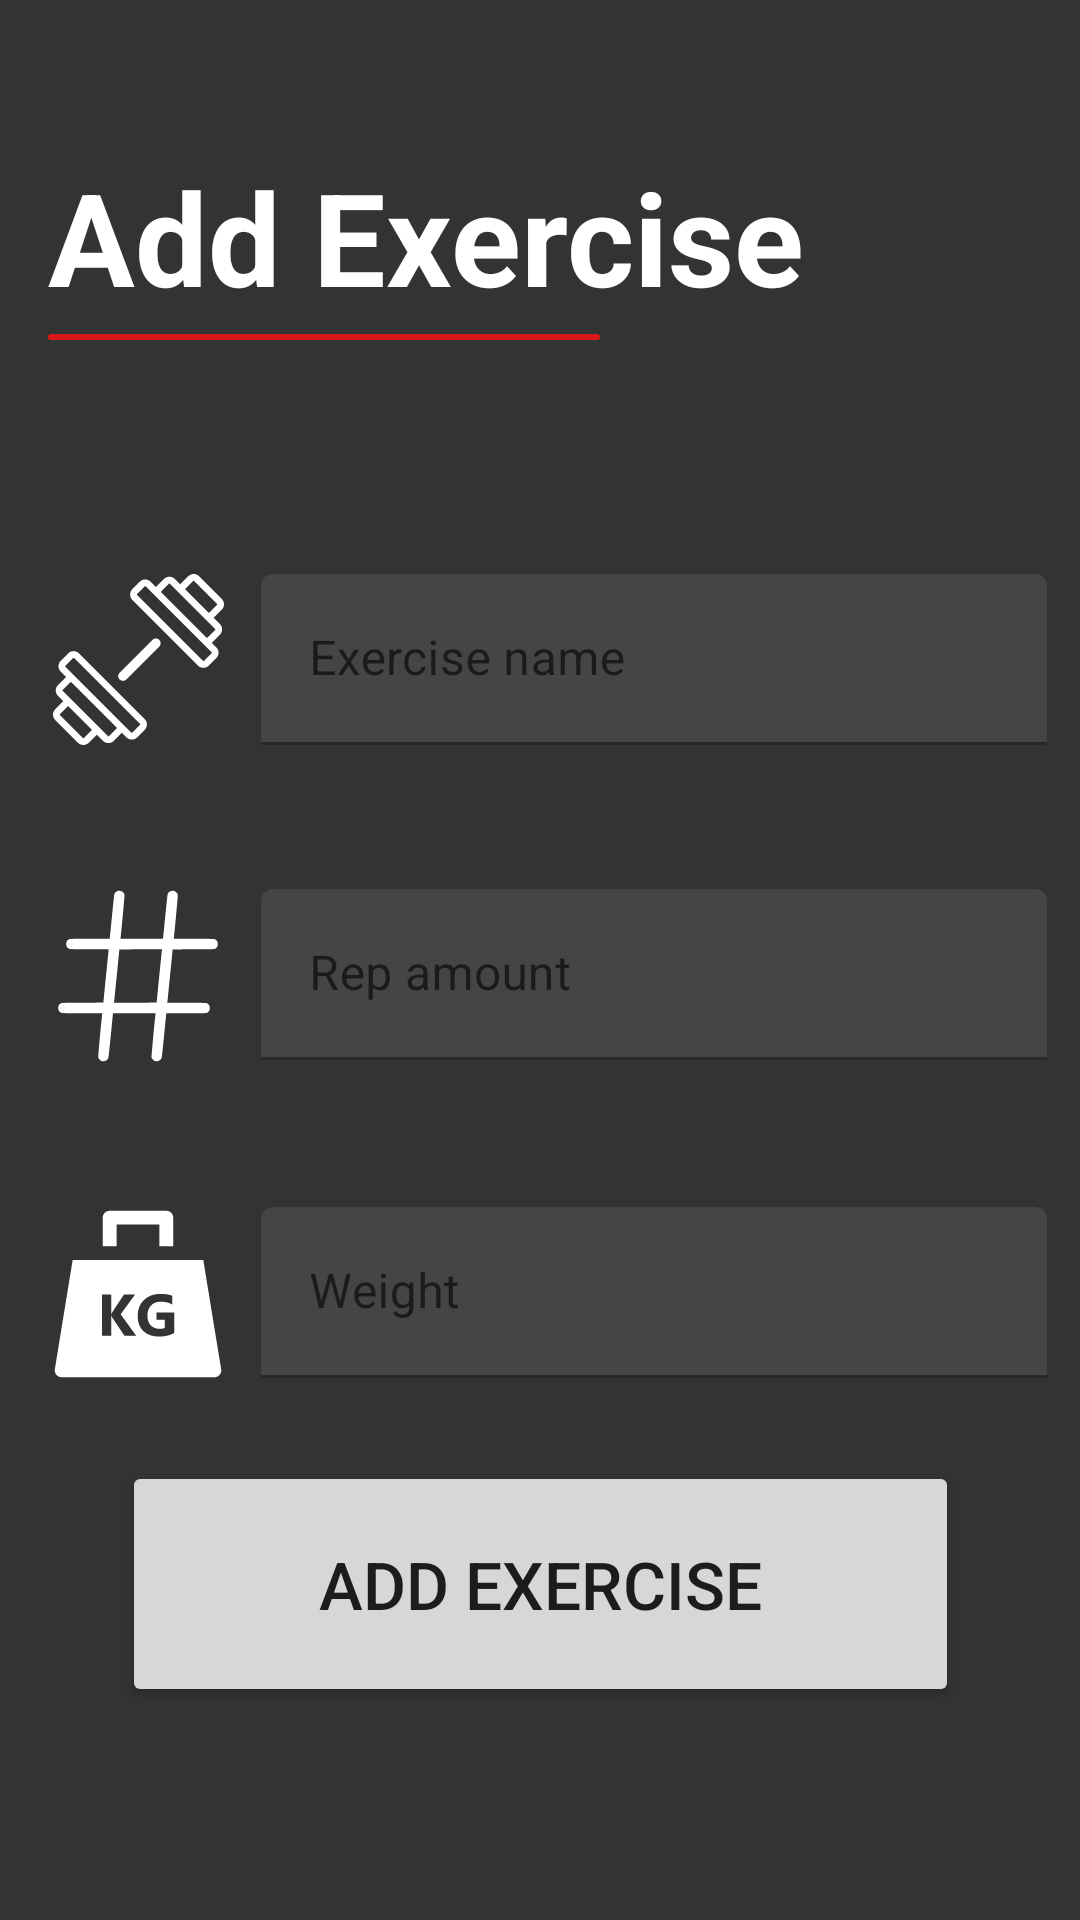

Screen size 1080*1920. Icon name, then its box in pixels as (x1, y1, x2, y2):
dumbell: (53, 574, 224, 745)
hashtag: (58, 890, 218, 1062)
